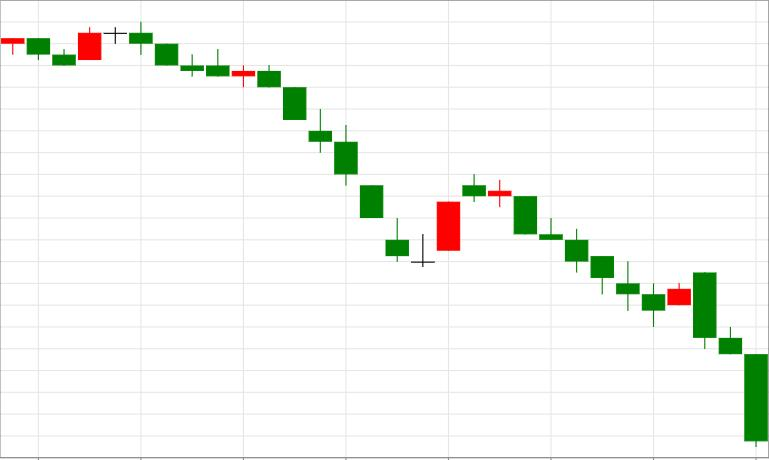morning_star_rise: (258, 66, 460, 268)
